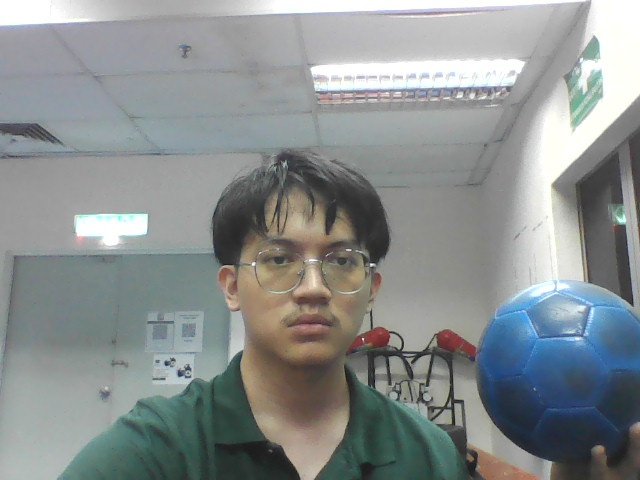Blue: (475, 281, 640, 462)
